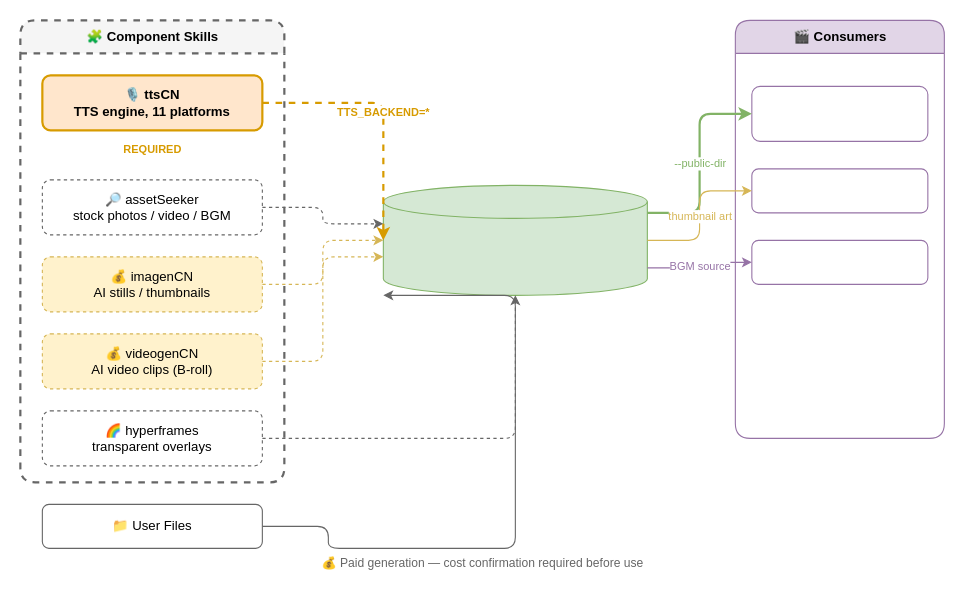
The diagram is 964 pixels wide and 589 high, and some of its shapes have lost their labels. The shapes that lost their labels are listed below. From the top down, each one's centre as x and y in pixels, then its label:
(x=839, y=113): ⚛️ Remotion Comp (via --public-dir)
(x=839, y=190): 🖼️ Thumbnail
(x=514, y=239): 🗂️ assets/manifest.json role · source · license · status
(x=839, y=261): 🎵 BGM Mix
